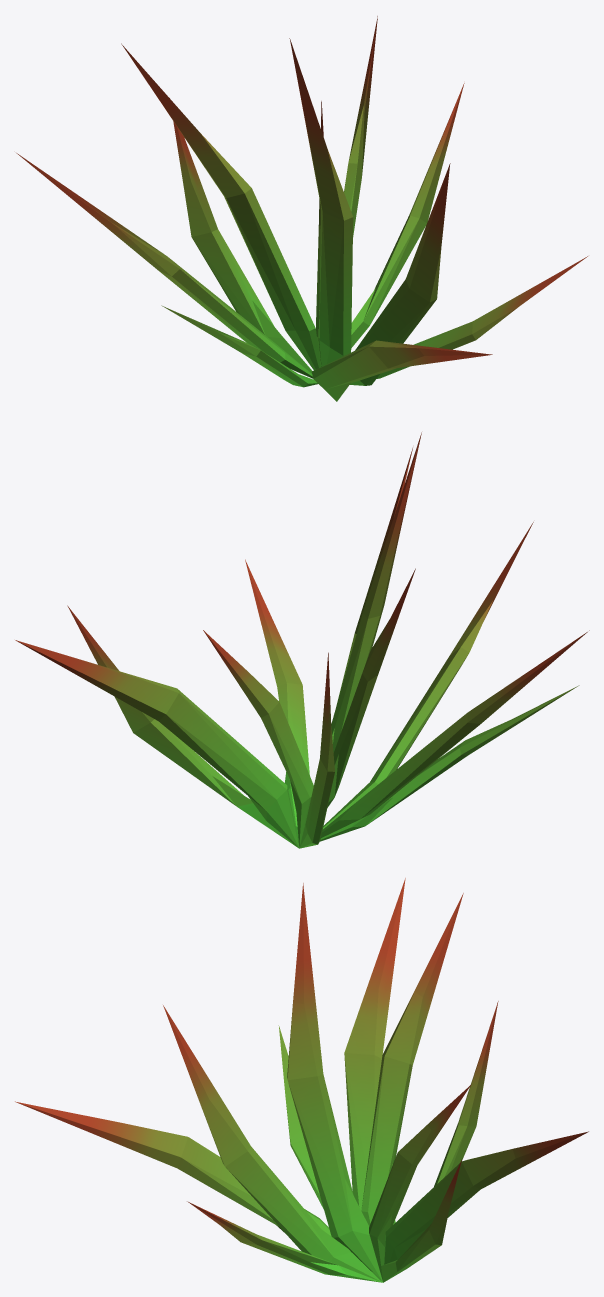
Rendered from grass.glb.
3 renders of one model, top to bottom at view 1: azimuth 30°, elevation 25°; view 2: azimuth 150°, elevation 25°; view 3: azimuth 270°, elevation 25°, orthographic. The views are drawn at different scales.
Visible parts, largest first — view 1: Cogon.Grass.000; view 2: Cogon.Grass.000; view 3: Cogon.Grass.000.
Boxes of the visible parts, x1,y1,x2,y2 form: Cogon.Grass.000: (16,16,587,401); Cogon.Grass.000: (15,432,589,848); Cogon.Grass.000: (15,878,588,1282).
Size of the model in its own units: 2.75 by 2.16 by 3.09.
Materials: 1 (1 with a texture image).
